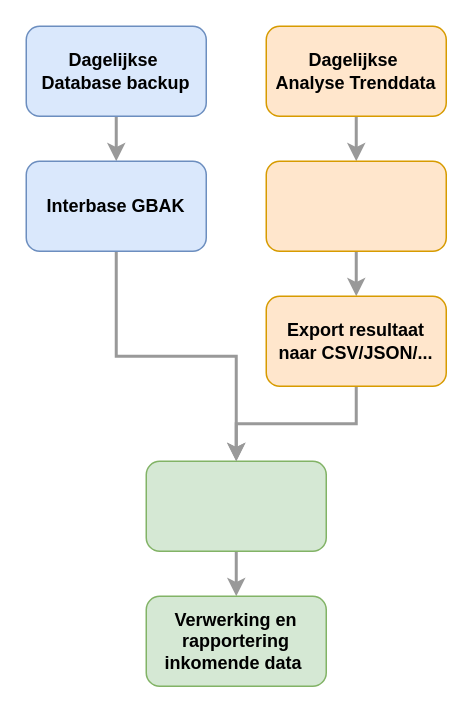
This 473x713 diagram has some shape labels left out. Here are the shapes that lost their labels. From the top down, the box of each, then its label:
(265, 160, 446, 251): Uitvoering SQL query
(145, 460, 326, 551): Gegevens versturen naar Server
